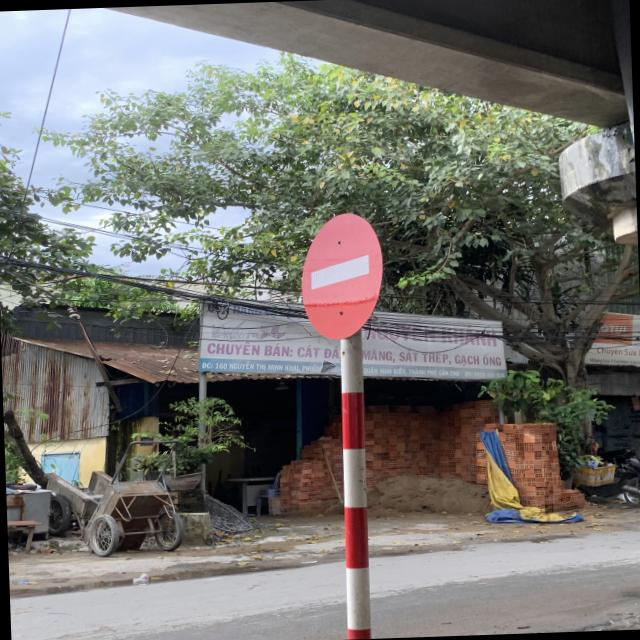Cam_Di_Nguoc_Chieu: (298, 211, 391, 342)
